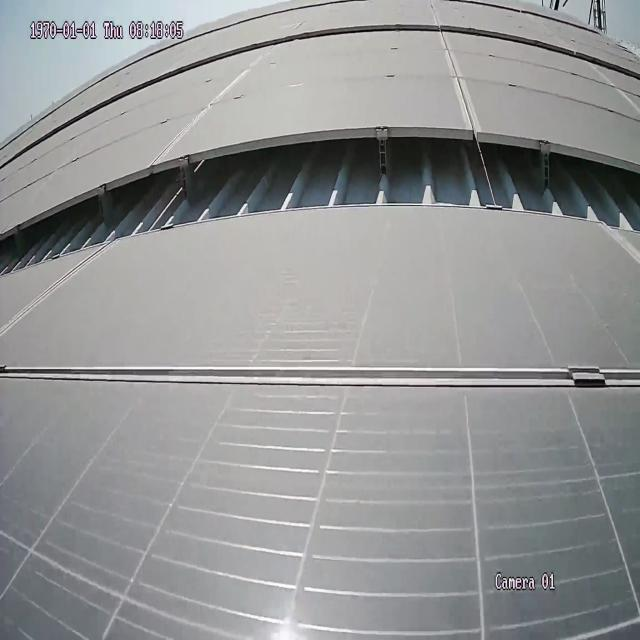interior panel: (0, 361, 640, 390), (150, 53, 272, 164), (3, 244, 117, 340), (440, 33, 478, 125), (604, 230, 637, 264)
outher panel: (3, 128, 639, 274)
